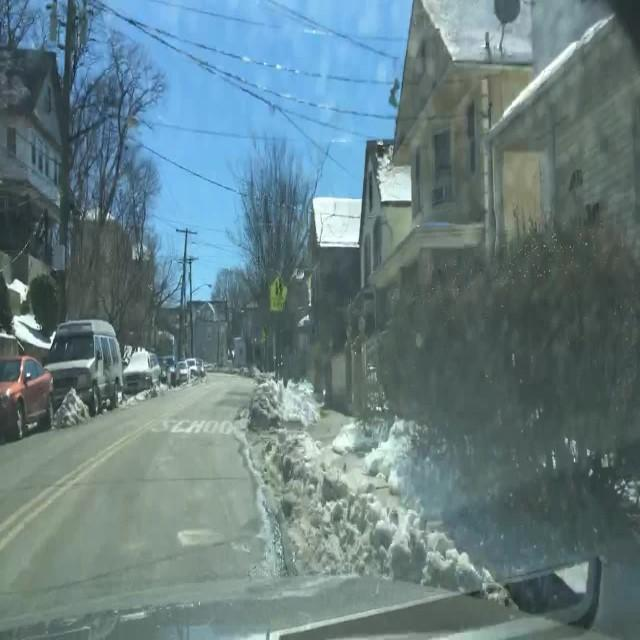single accident: (0, 288, 182, 456)
